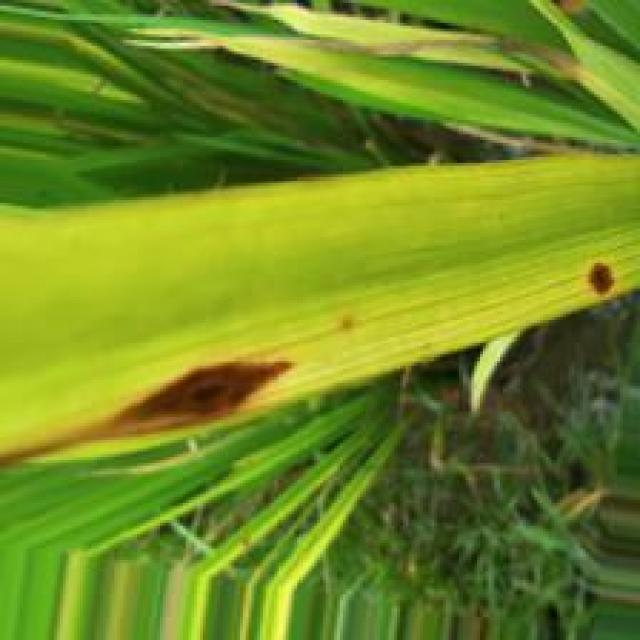Narrow_Brown_Leaf_Spot: (0, 347, 303, 475)
